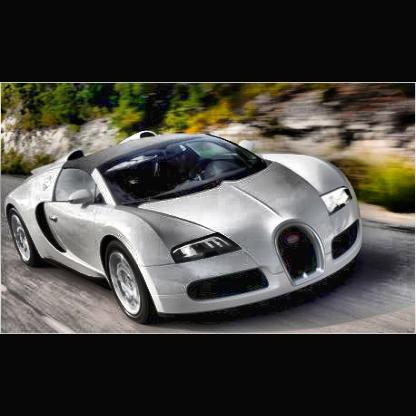Bugatti Veyron 16-4 Coupe 2009: (8, 133, 363, 325)
